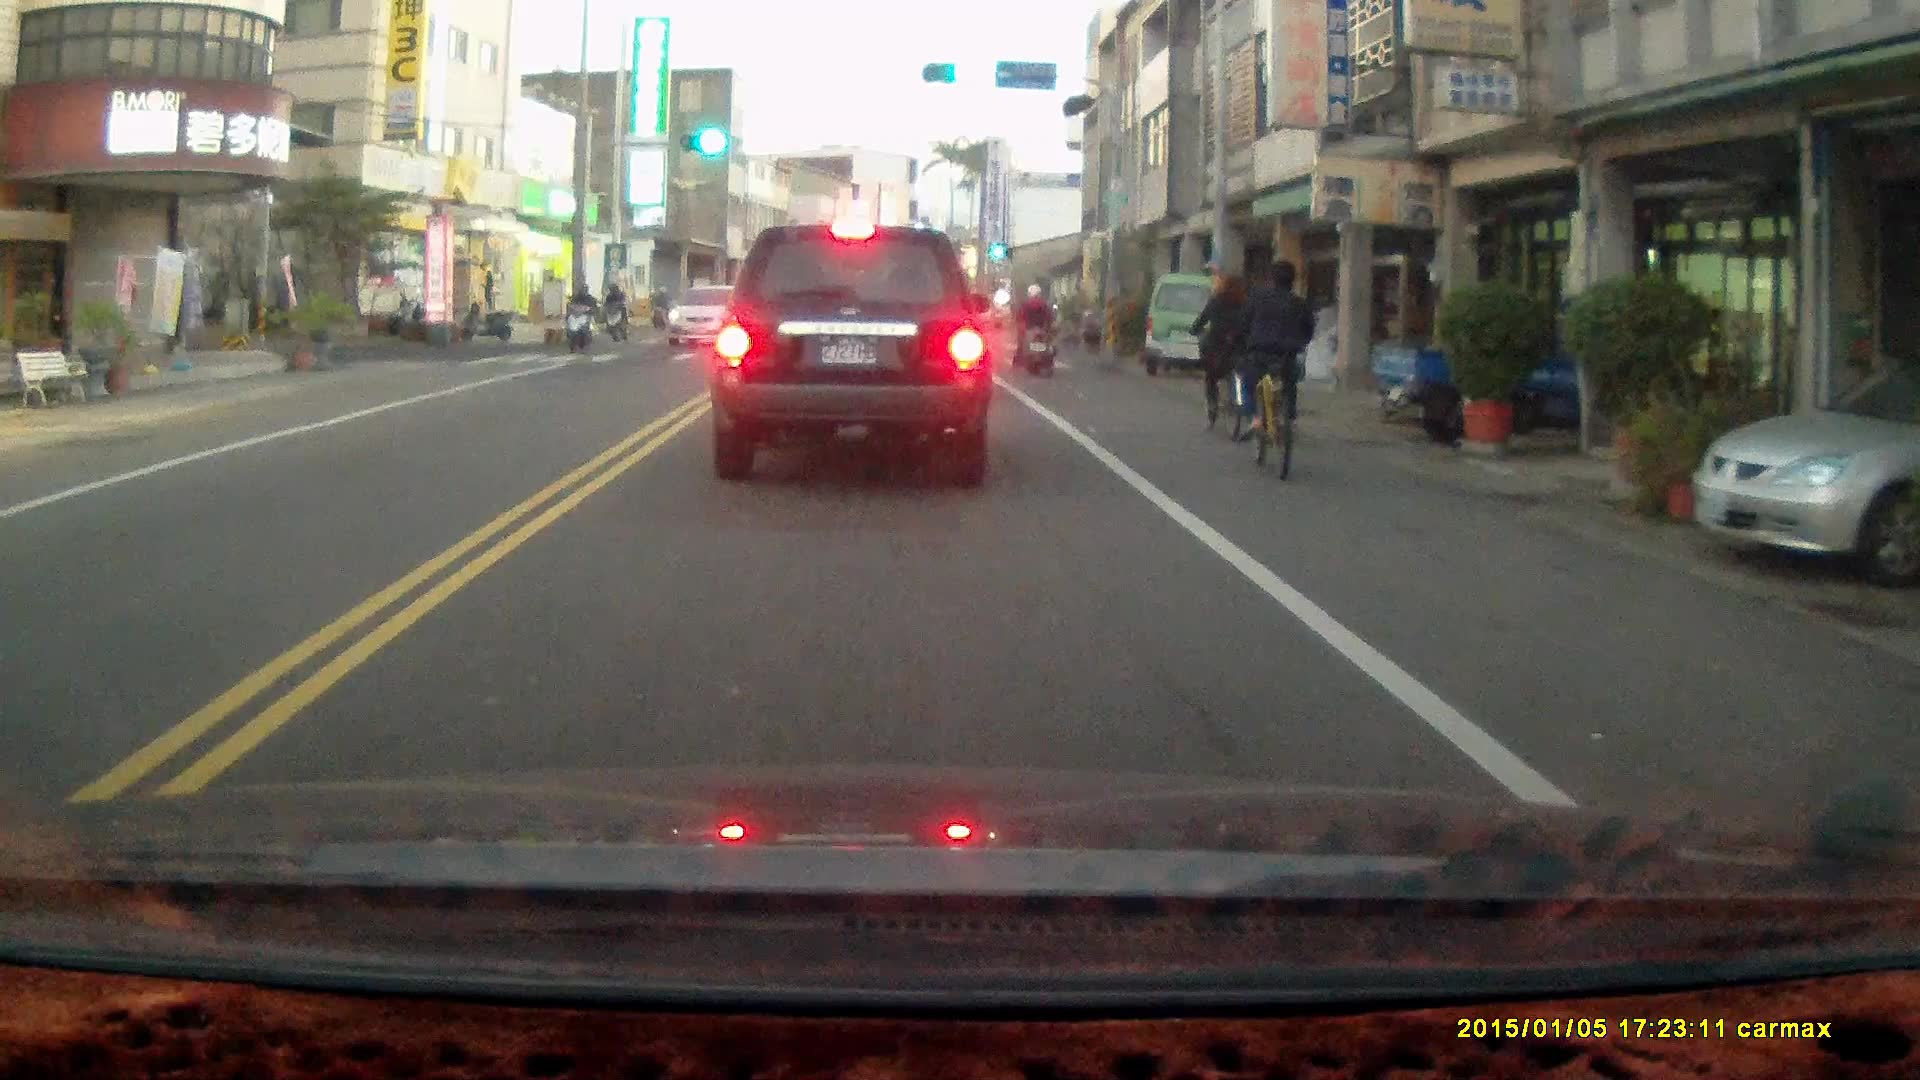pedestrian: (475, 260, 495, 313)
rider: (1230, 256, 1317, 481), (1188, 275, 1251, 442), (1004, 282, 1059, 378), (561, 279, 597, 355), (598, 279, 630, 341), (648, 284, 669, 329)
vehicle: (707, 223, 997, 493), (1690, 349, 1920, 594), (1147, 277, 1247, 375), (660, 283, 761, 353)
